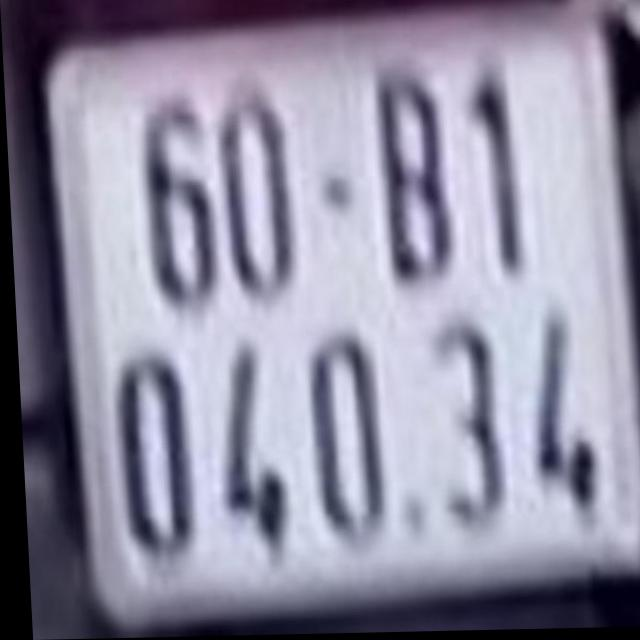0: (106, 352, 199, 565), (306, 329, 390, 557), (216, 81, 299, 297)
1: (466, 76, 533, 293)
3: (423, 314, 504, 528)
4: (211, 337, 290, 562), (520, 318, 603, 530)
6: (136, 94, 222, 307)
B: (381, 74, 454, 288)
